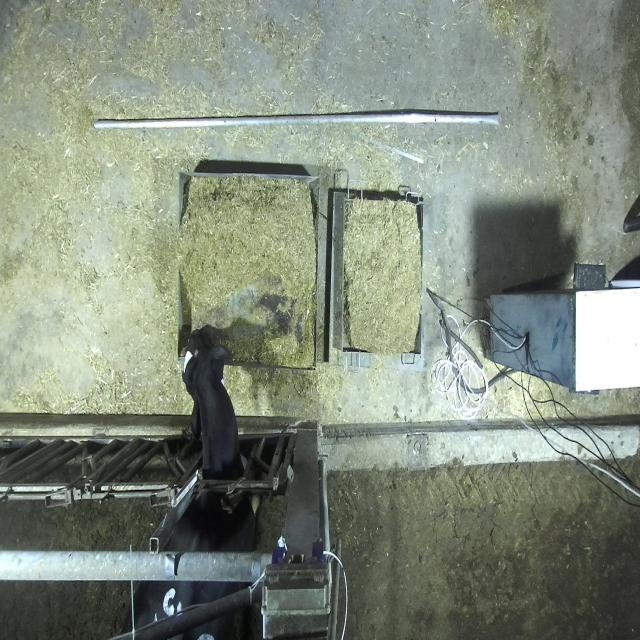cow: (182, 331, 225, 430)
